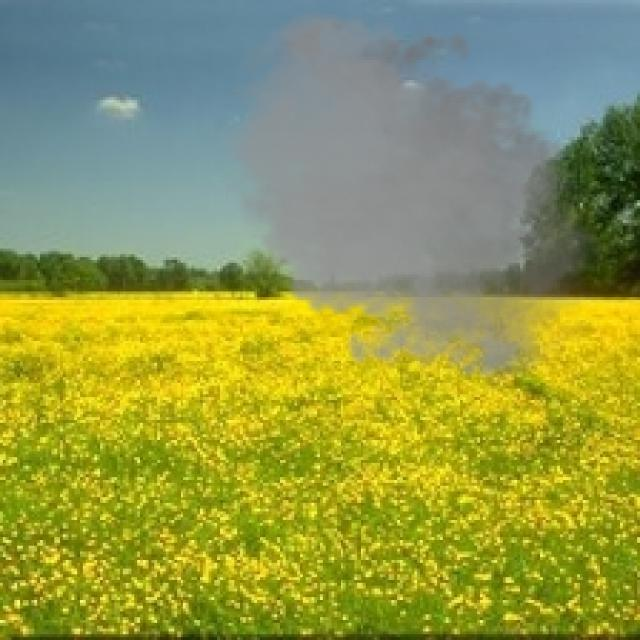smoke: (214, 6, 617, 391)
